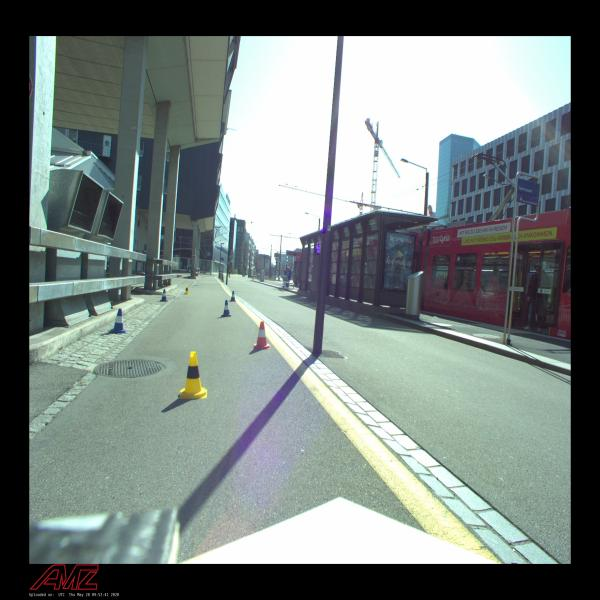blue_cone: (111, 308, 126, 333), (222, 300, 232, 316), (160, 289, 168, 301), (230, 291, 236, 302)
orange_cone: (254, 321, 270, 349)
yellow_cone: (180, 352, 208, 398), (184, 285, 190, 295)
